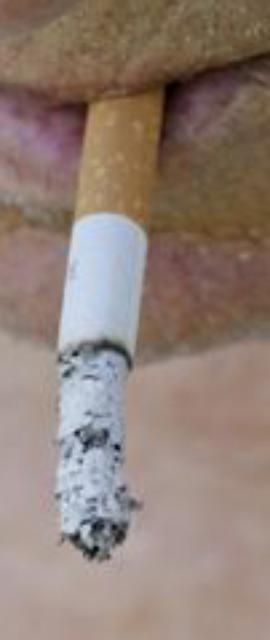Smoking: (56, 38, 176, 566)
